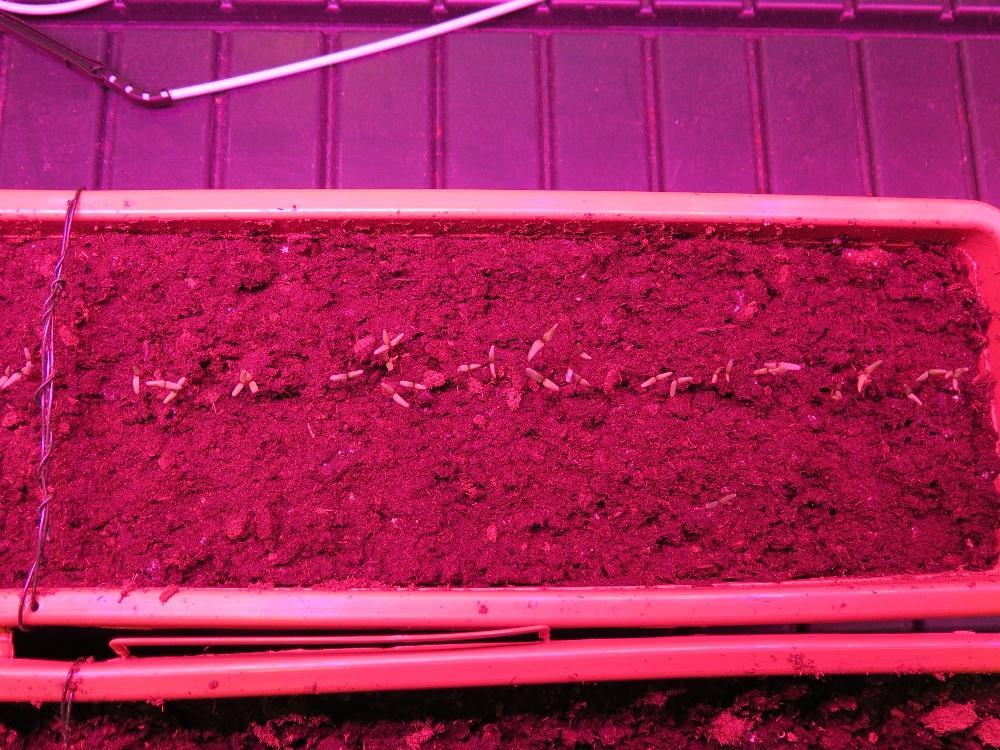crop: (525, 320, 557, 362), (523, 365, 559, 392), (668, 374, 693, 398), (327, 366, 363, 382), (901, 382, 922, 406), (485, 341, 496, 380), (397, 377, 426, 390), (454, 360, 481, 373), (129, 363, 139, 393), (723, 357, 733, 382), (710, 365, 721, 384)
